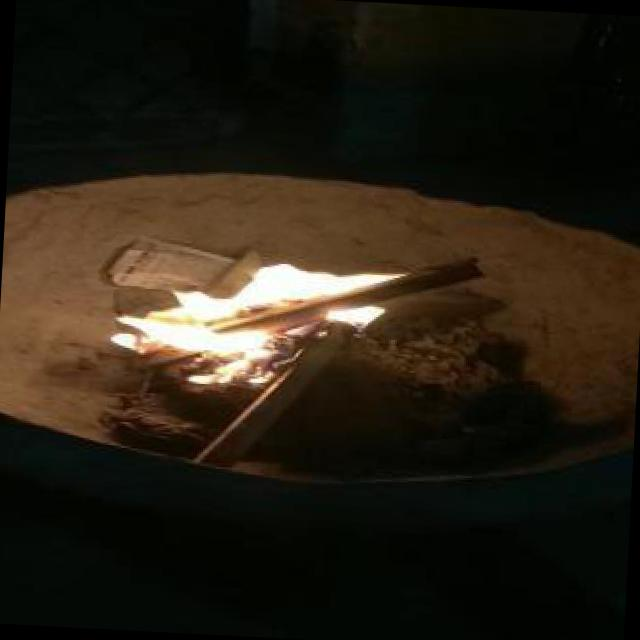Fire: (102, 242, 412, 402)
